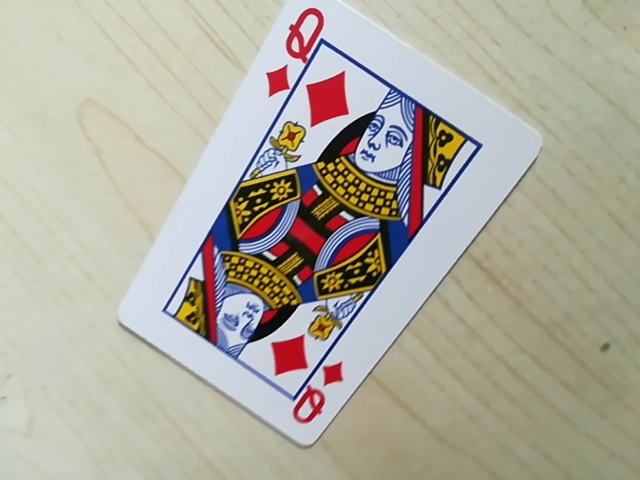fk q: (261, 0, 335, 105), (280, 365, 346, 431)
